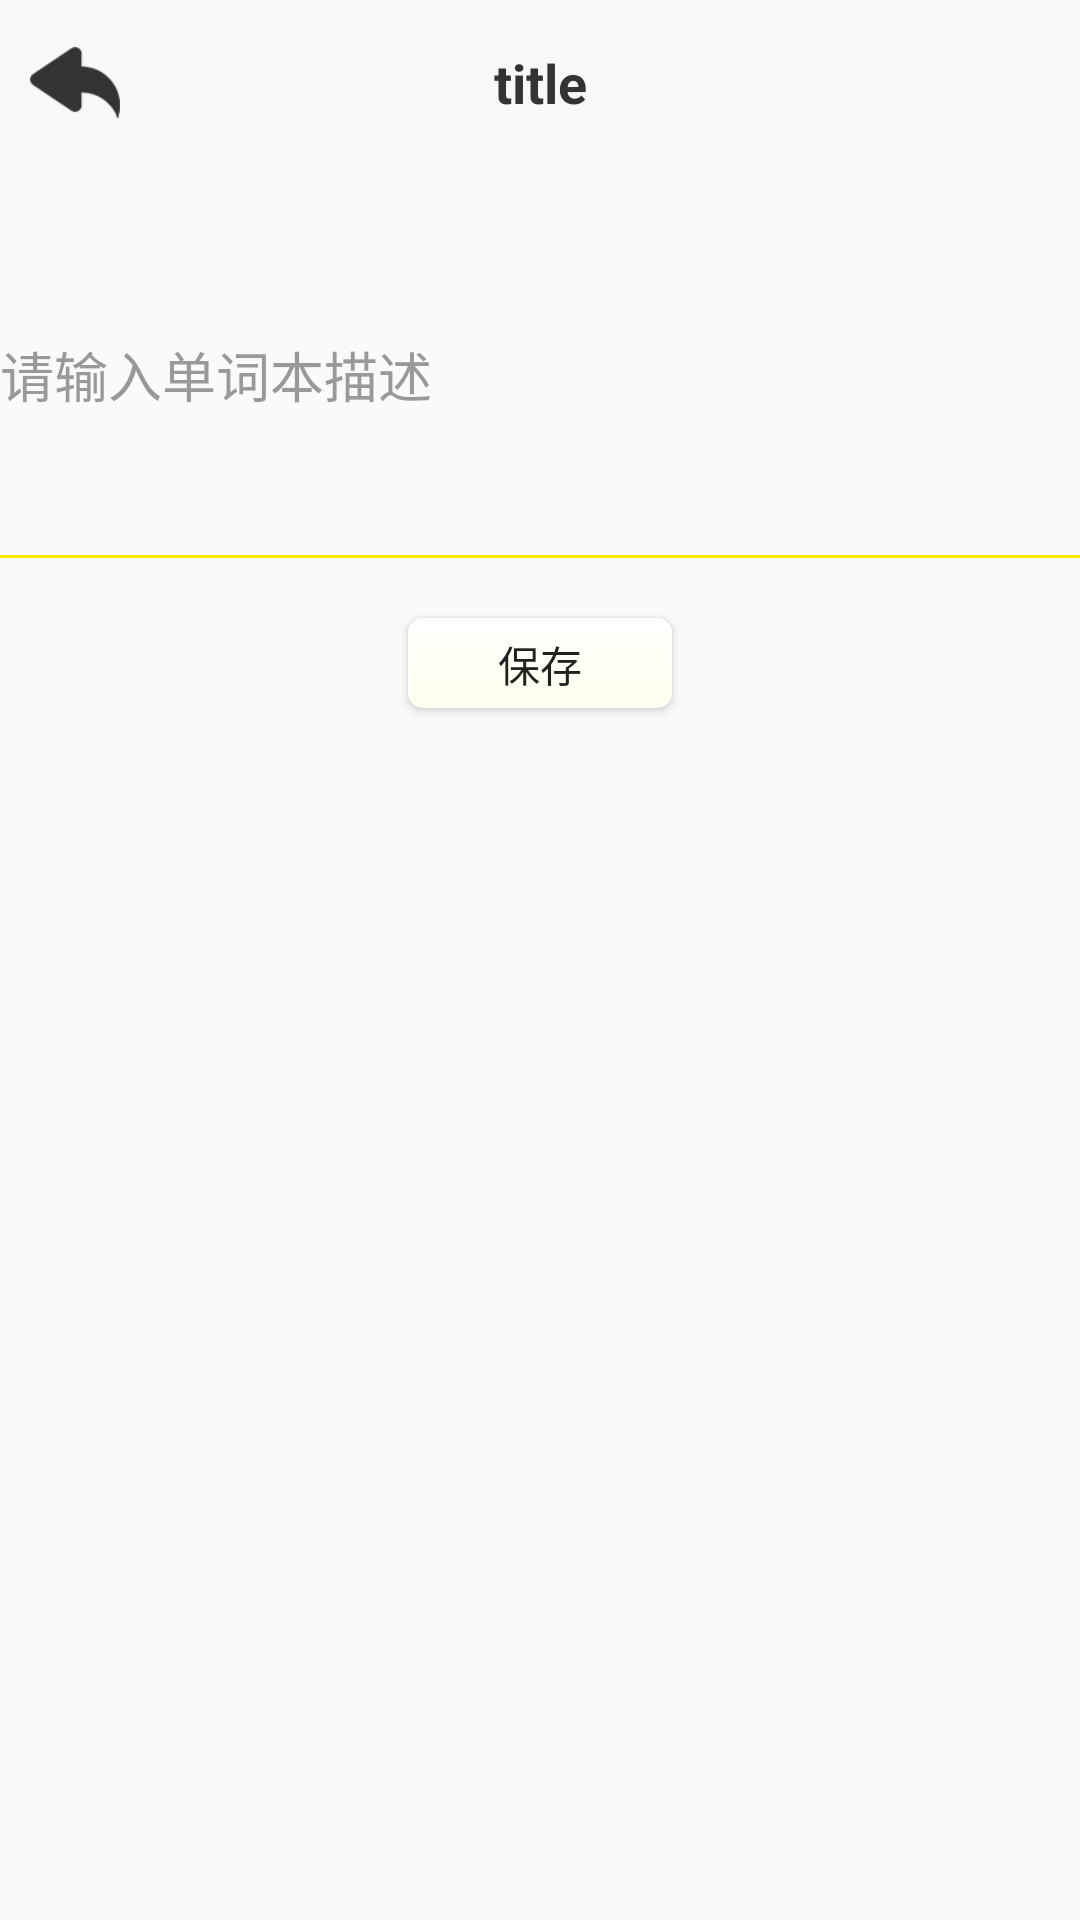

Locate icon controls on the screen. Image size 1080px×1920px, boxes as region(x1, y1, x2, y2).
return: region(30, 47, 120, 118)
